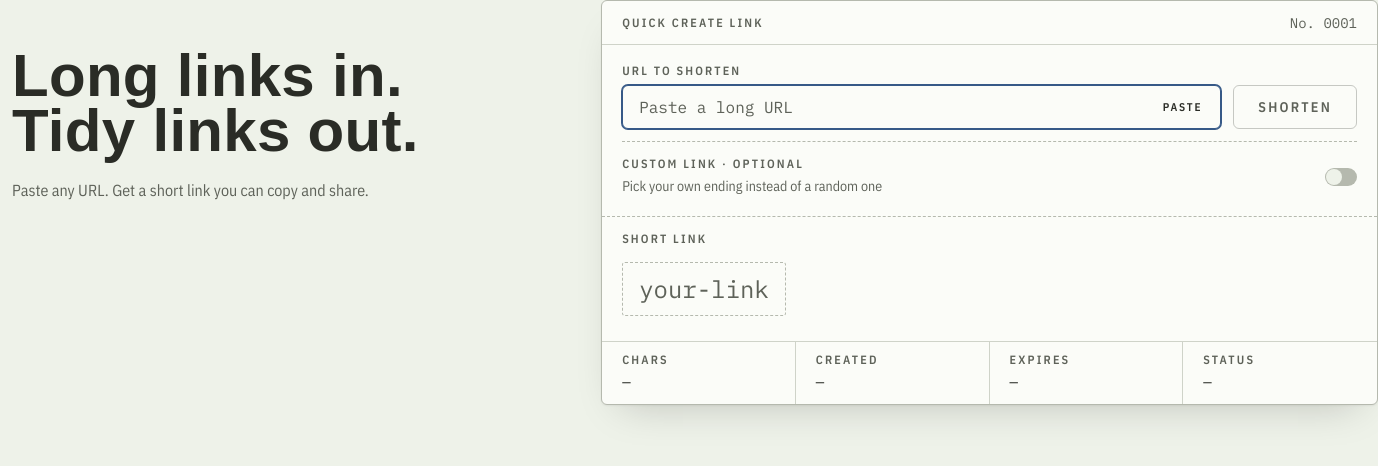
ShortenForm › My links cache › leaves the cache alone when the request fails
In the field labelled "URL to shorten": [922, 107] box top-left (622, 85), bottom-right (1221, 129), type "https://example.com"
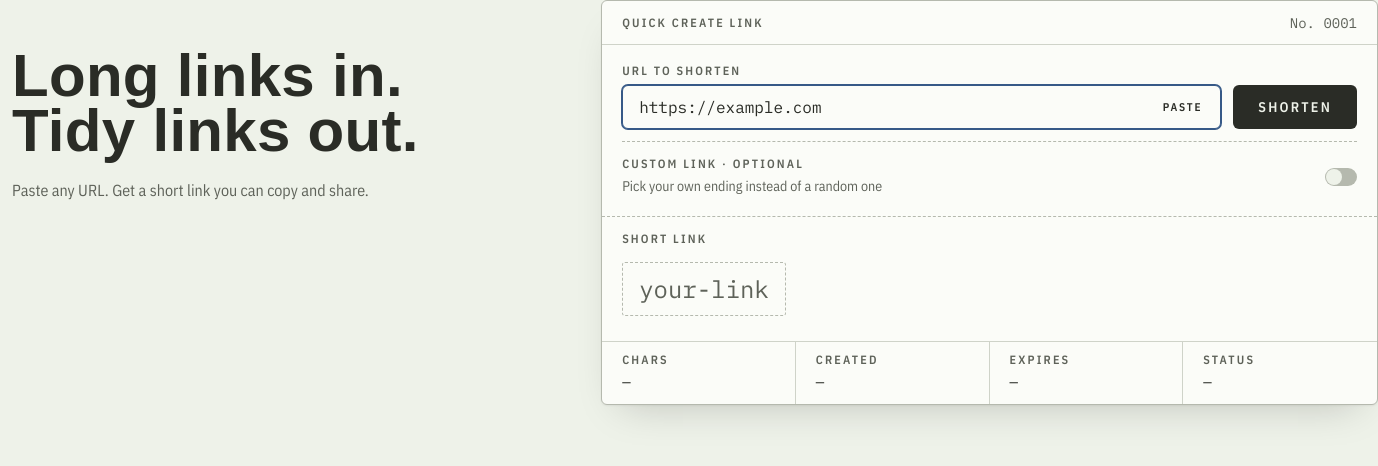
Click the button "Shorten": [1295, 107] box top-left (1233, 85), bottom-right (1357, 129)
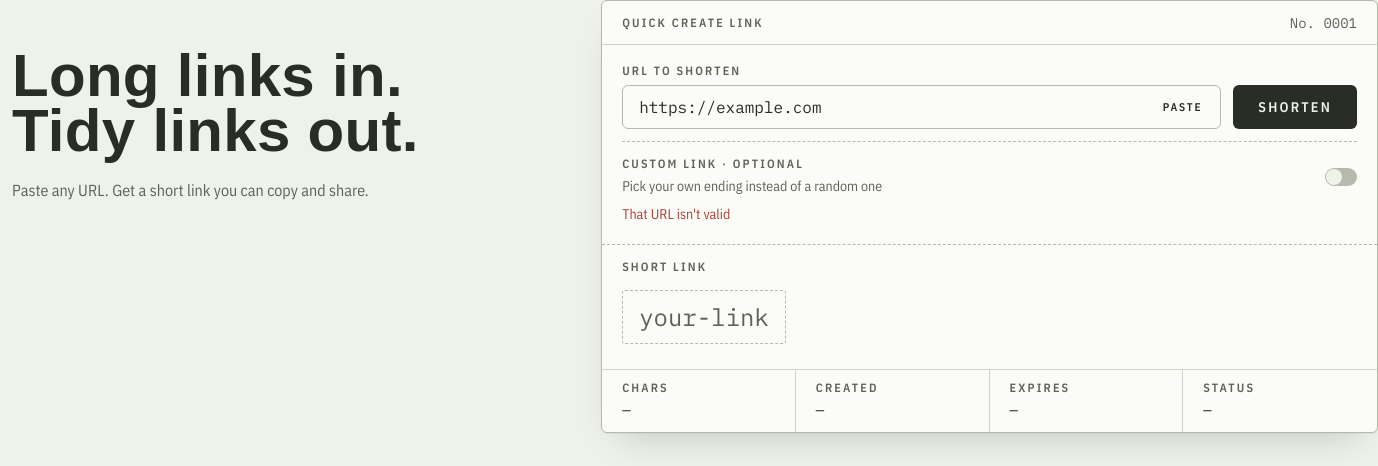
Expected: the message "That URL isn't valid" is shown, top-left (622, 205), bottom-right (730, 223)
